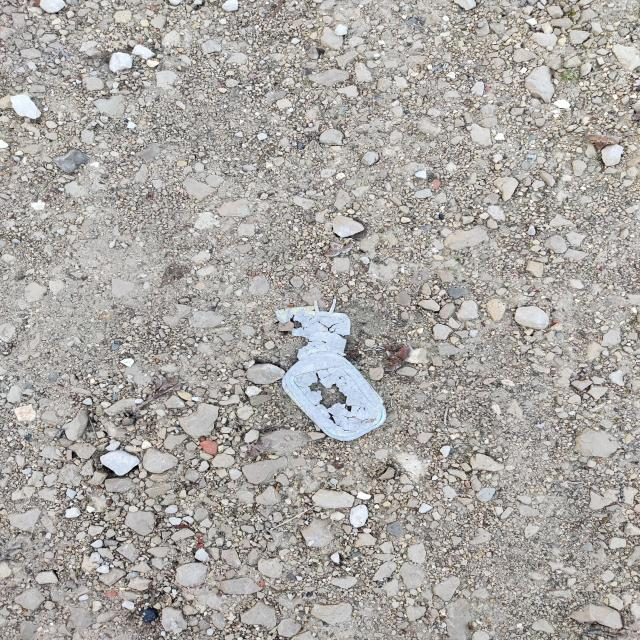litter: (283, 301, 380, 438)
